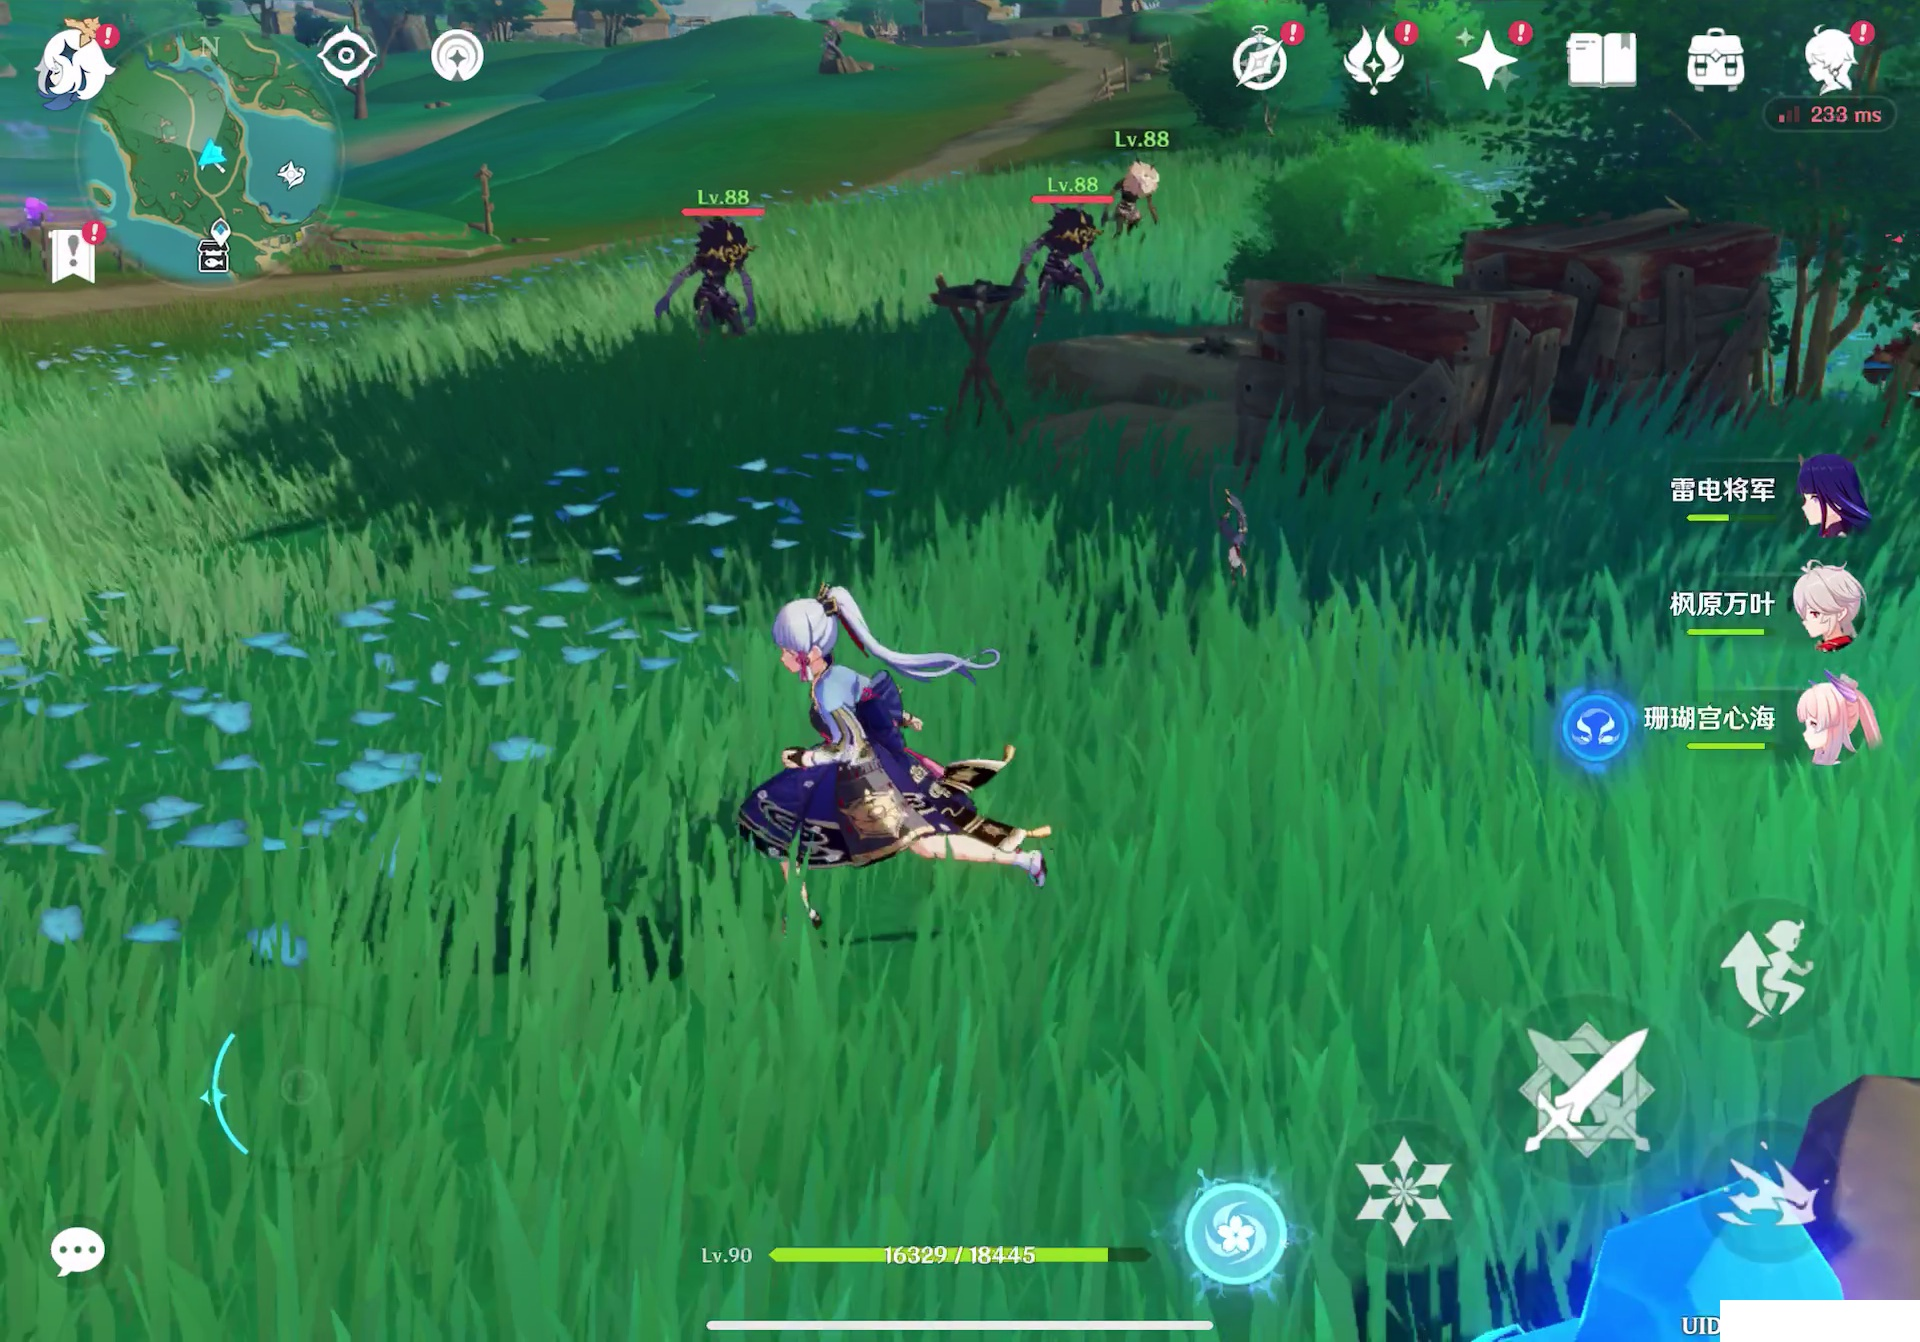丘丘人: (657, 225, 781, 352), (1015, 204, 1122, 311), (1099, 163, 1166, 239)
神里绫龟: (737, 551, 1018, 935)
